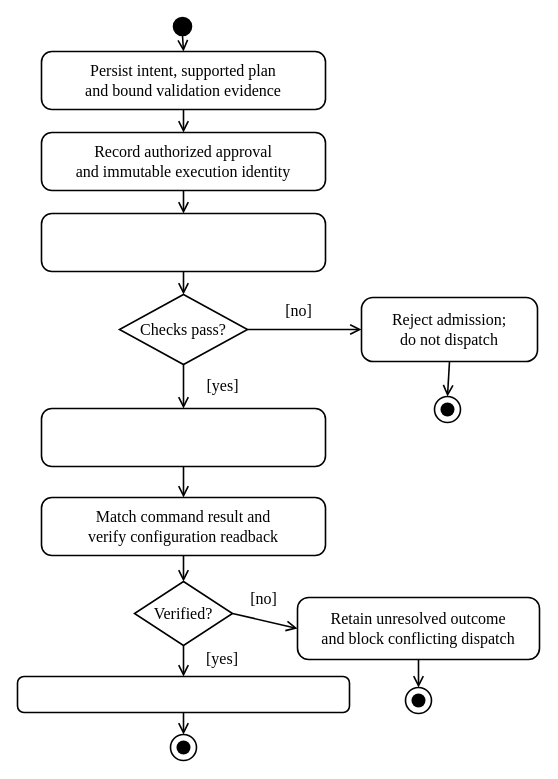
This 558x779 diagram has some shape labels left out. The shapes that lost their labels are listed below. From the top down, each one's box as (x1, y1, x2, y2) in pixels, then its label:
(40, 212, 326, 272): Recheck actor, membership, binding, freshness and required evidence
(40, 407, 326, 467): Dispatch bounded command through the execution mailbox
(16, 675, 350, 713): Record completion or verified non-mutation
